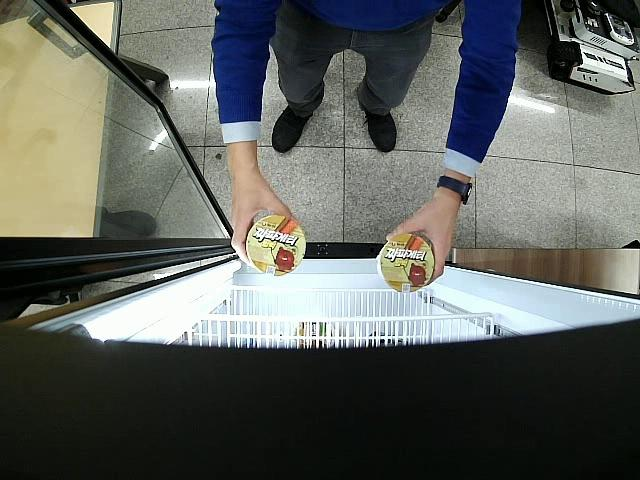00_hand: (386, 194, 461, 285), (228, 164, 292, 267)
04_chapagetti_S: (246, 214, 305, 275), (377, 234, 434, 293)
